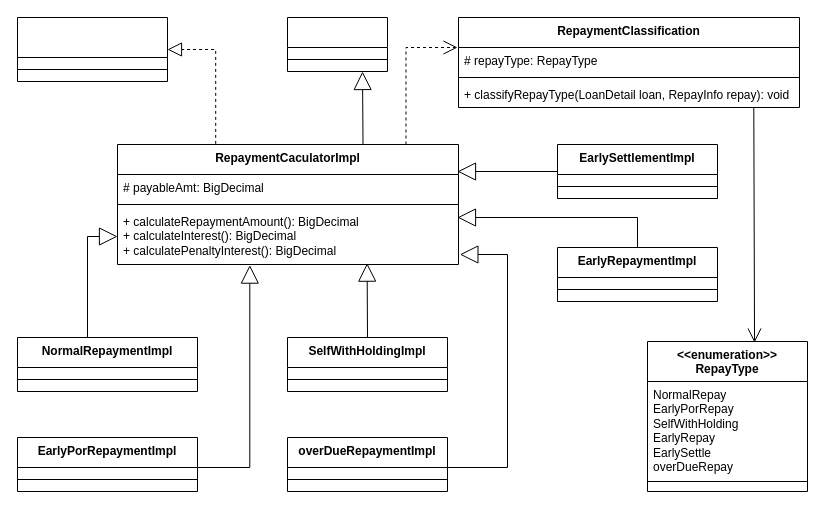
This 825x509 diagram has some shape labels left out. The centre of each missing label's shape, as x and y in pixels:
"<<interface>> RepaymentCaculator" belongs at [92,49].
"Thread" belongs at [337,44].
